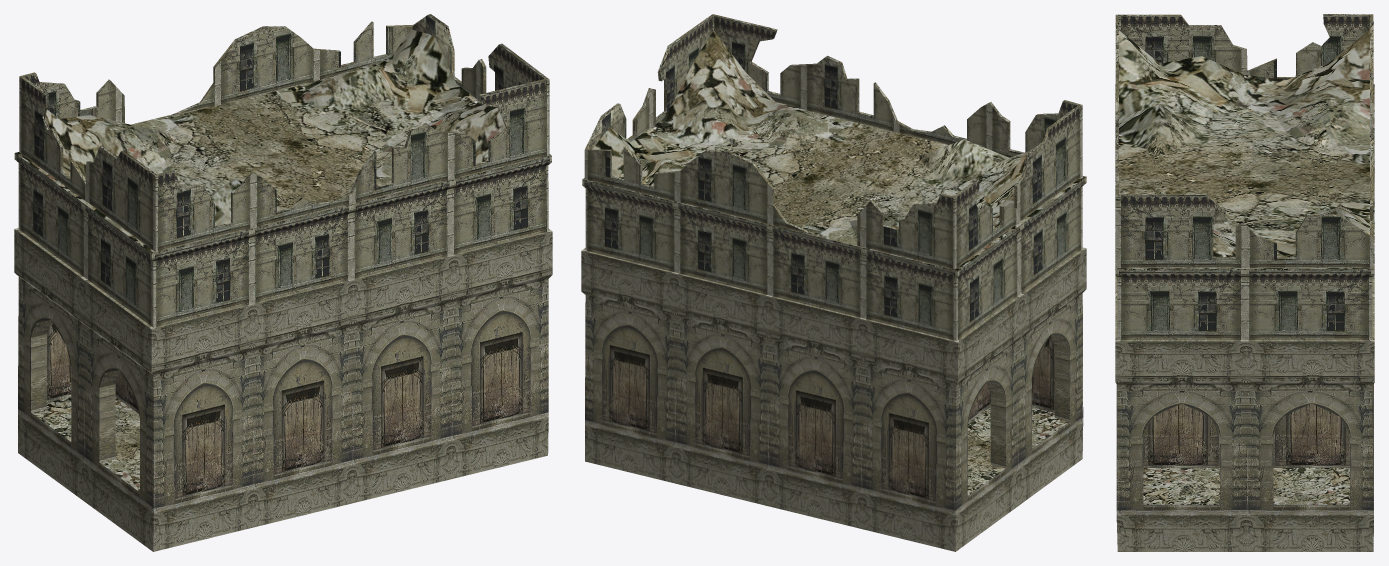
File: MogBld1.glb
3 views of the same model, side by side, from view 1: azimuth 30°, elevation 25°; view 2: azimuth 150°, elevation 25°; view 3: azimuth 270°, elevation 25° (orthographic). The views are drawn at different scales.
Parts seen in each view (by area): view 1: _MogBld1; view 2: _MogBld1; view 3: _MogBld1.
Part boxes in pixels (<box>): _MogBld1: <box>14,14,552,551</box>; _MogBld1: <box>581,14,1086,551</box>; _MogBld1: <box>1115,14,1374,551</box>.
Bounding box in the file's own units: 12.83 × 11.55 × 7.61.
Materials: 2 (2 with a texture image).
